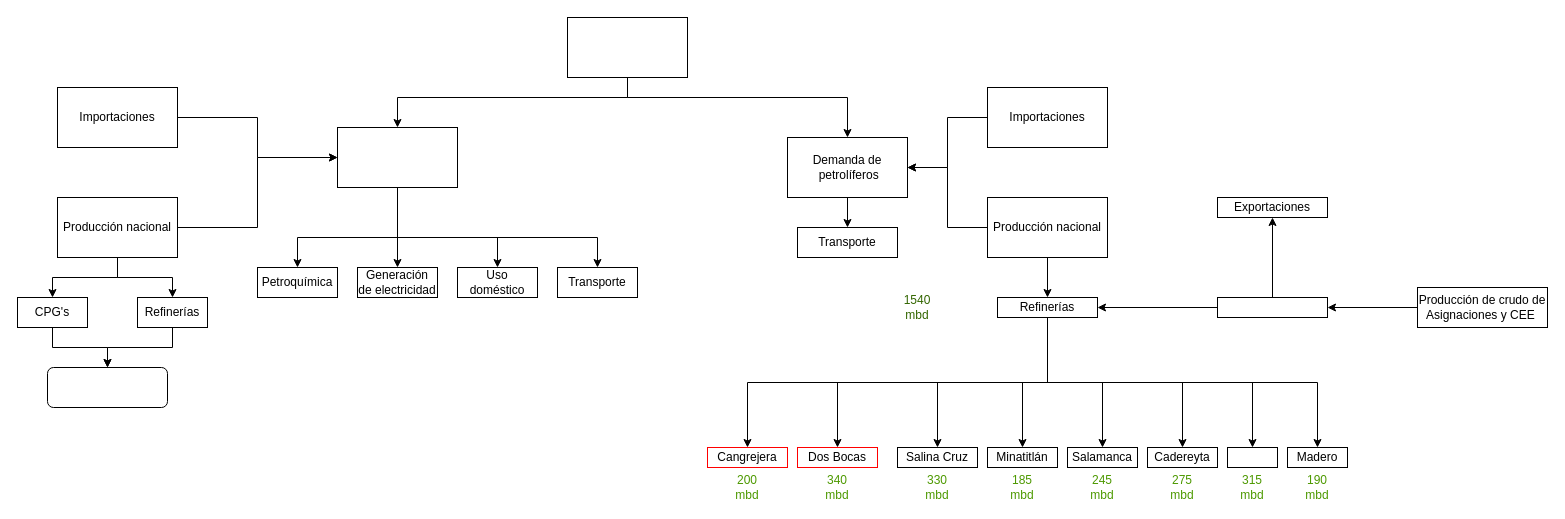
Image size: 1565x519. Some labels were removed from this diagram. Each missing label, with the centre of its shape:
"Demanda de crudo" belongs at (x=1272, y=307).
"Demanda de gas" belongs at (x=397, y=157).
"Demanda nacional de combustibles" belongs at (x=627, y=47).
"Producción de gas de Asignaciones y CEE" belongs at (x=107, y=387).
"Tula" belongs at (x=1252, y=457).
